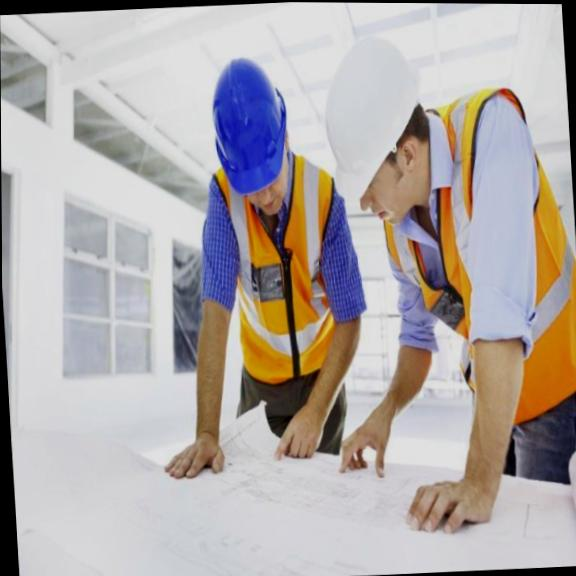safety_vest: (211, 161, 342, 381)
